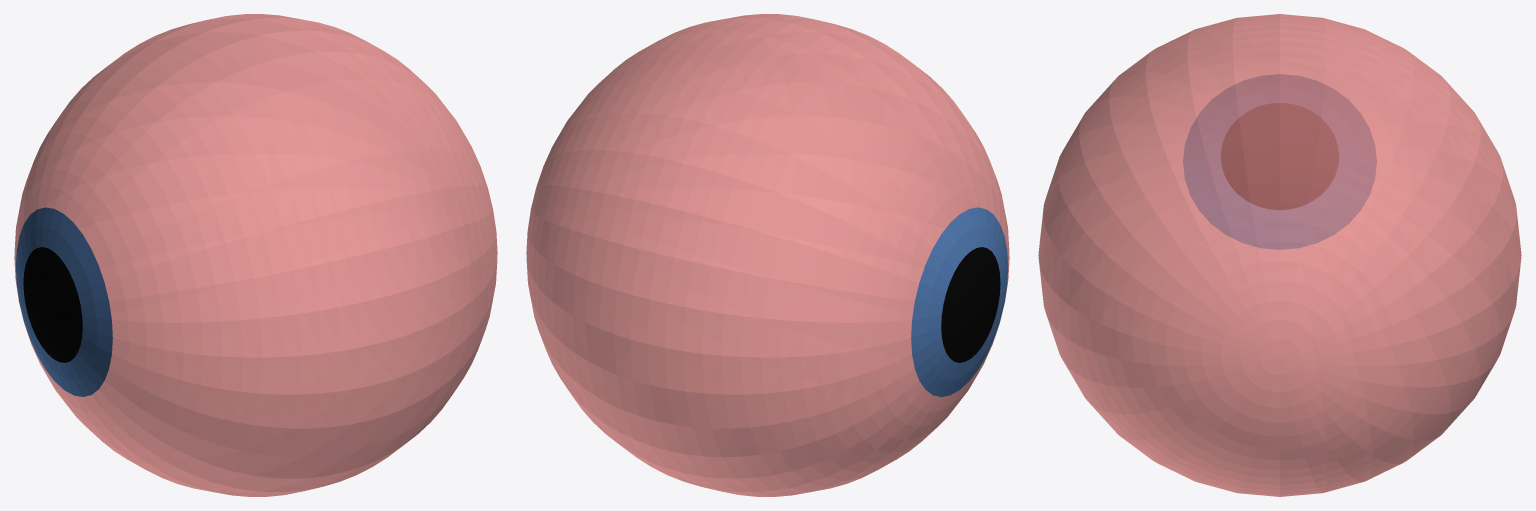
File: eye_model.fbx
The picture shows the model from 3 angles, left to right: view 1: azimuth 30°, elevation 25°; view 2: azimuth 150°, elevation 25°; view 3: azimuth 270°, elevation 25°; orthographic projection.
Visible parts, largest first — view 1: EyeModel; view 2: EyeModel; view 3: EyeModel.
Part boxes in pixels (x1,y1,x2,y2): EyeModel: (14,14,497,496); EyeModel: (526,14,1009,496); EyeModel: (1038,14,1521,496).
Bounding box in the file's own units: 2.4 × 2.4 × 2.4.
